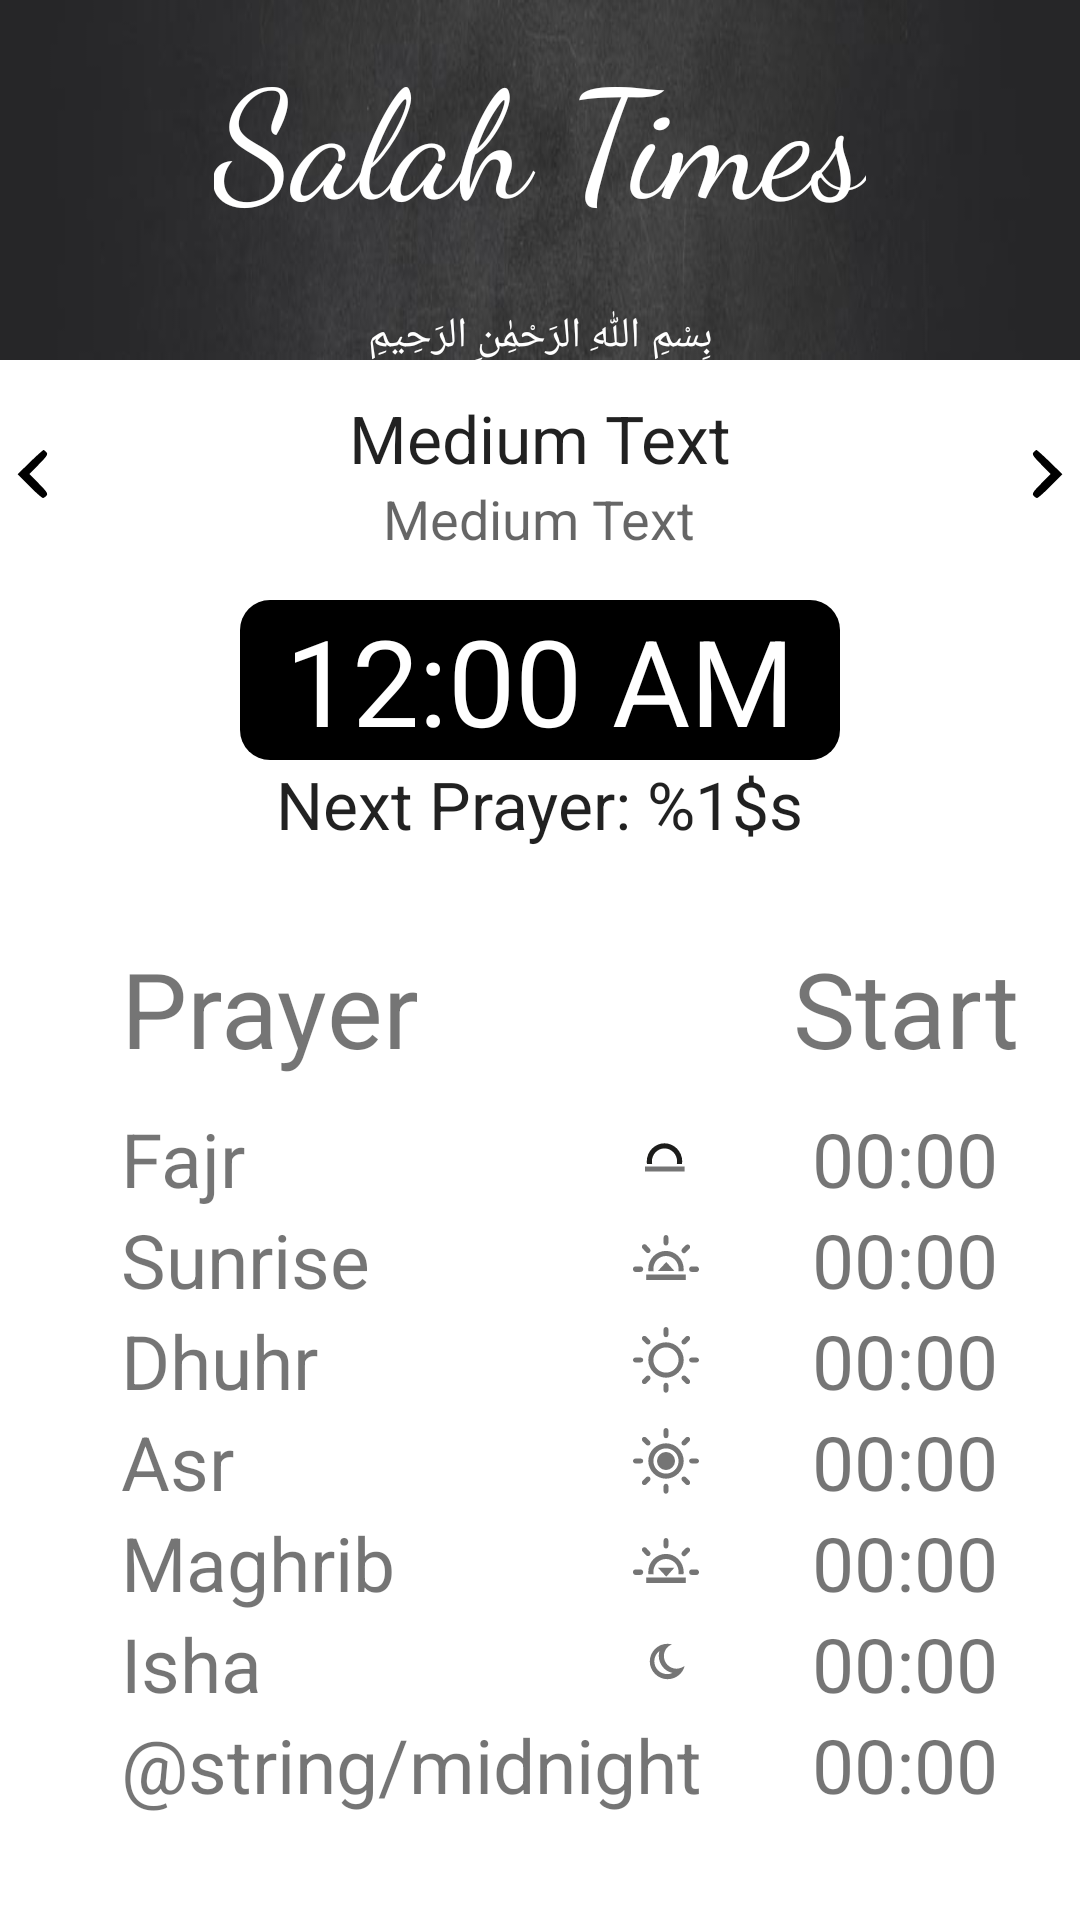

Named icons in this screenshot (1080px×1920px) and their centers, (x,y):
arrow left: (32,474)
arrow right: (1048,474)
